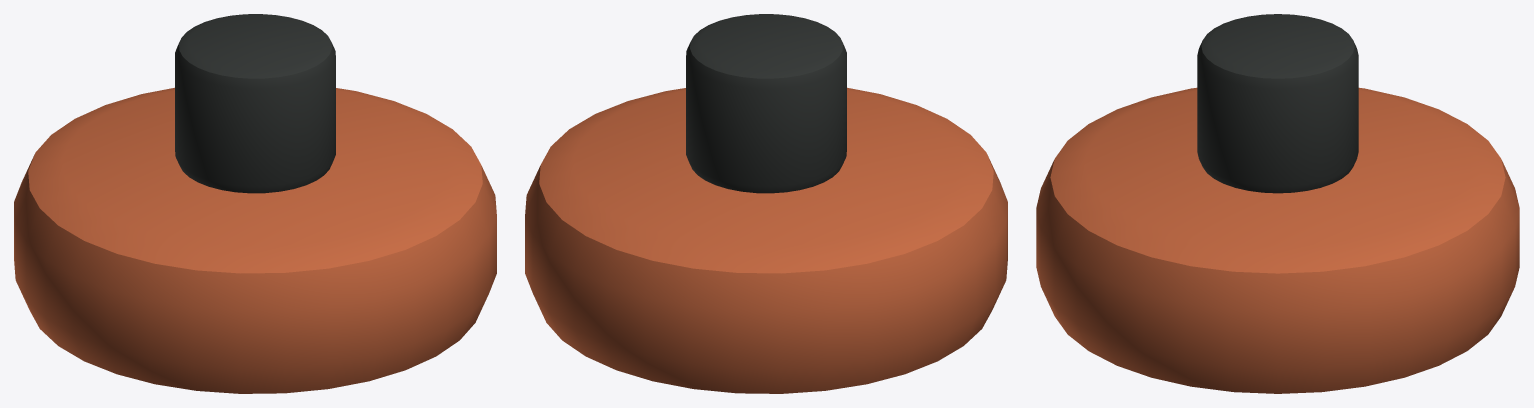
File: desktop_dispensing_robot_emergency_stop.glb
3 renders of one model, left to right at view 1: azimuth 30°, elevation 25°; view 2: azimuth 150°, elevation 25°; view 3: azimuth 270°, elevation 25°, orthographic.
Parts seen in each view (by area): view 1: desktop_dispensing_robot_emergency_stop; view 2: desktop_dispensing_robot_emergency_stop; view 3: desktop_dispensing_robot_emergency_stop.
Boxes of the visible parts, bbox=[...] form: desktop_dispensing_robot_emergency_stop: bbox=[14, 14, 496, 393]; desktop_dispensing_robot_emergency_stop: bbox=[525, 14, 1007, 393]; desktop_dispensing_robot_emergency_stop: bbox=[1036, 14, 1519, 393].
Bounding box in the file's own units: 0.036 × 0.022 × 0.036.
